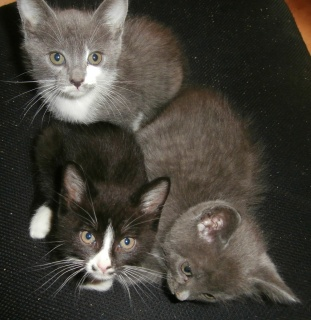Cat: (132, 82, 304, 308), (20, 120, 172, 313), (0, 0, 192, 135)
